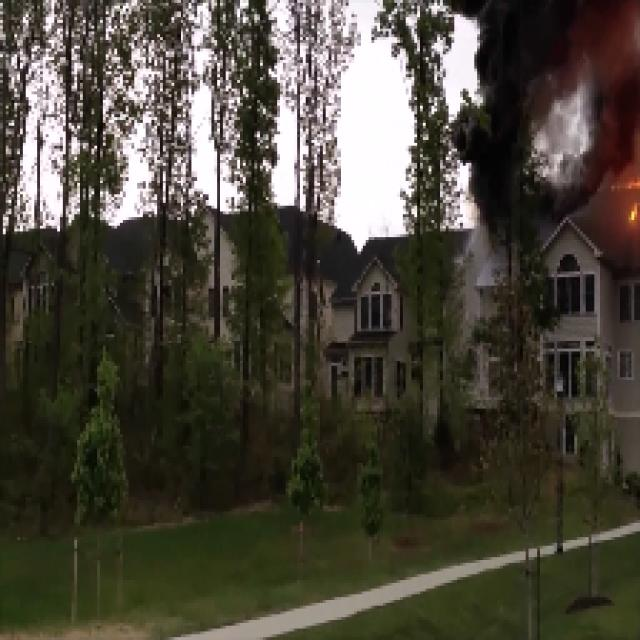smoke: (481, 1, 633, 195)
